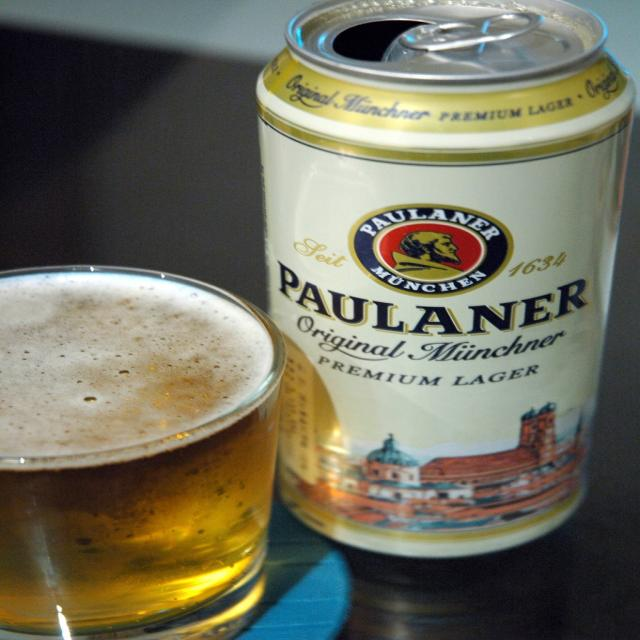paulaner: (349, 203, 514, 298)
